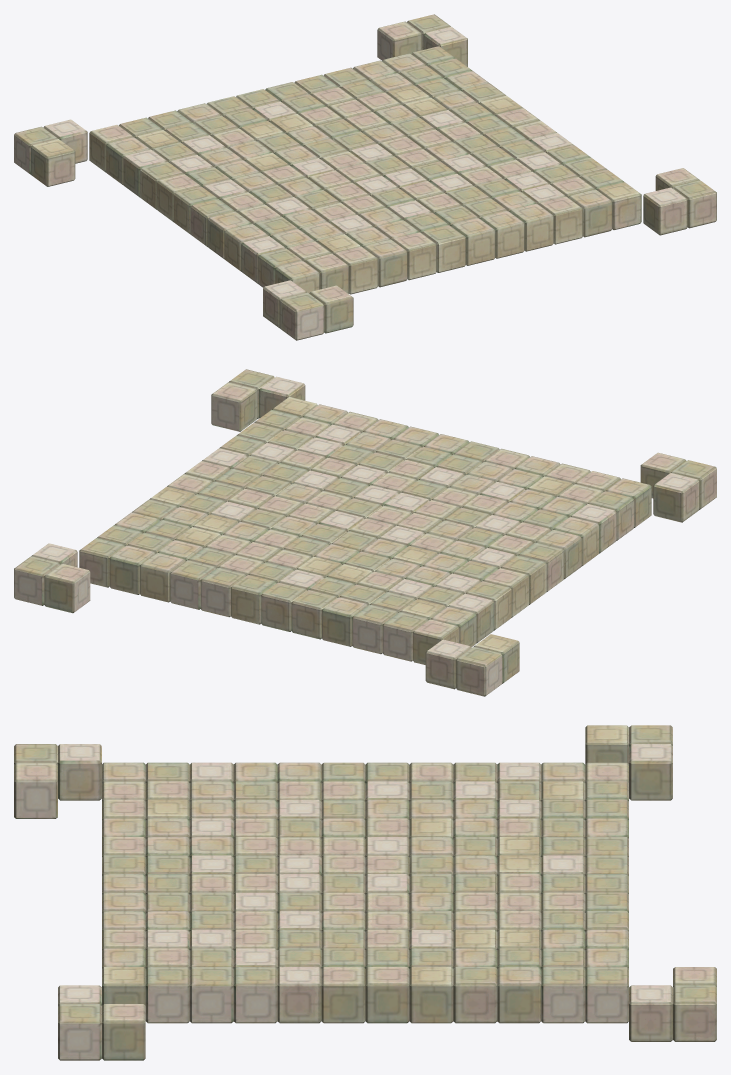
File: Arena.obj
The picture shows the model from 3 angles, top to bottom: view 1: azimuth 30°, elevation 25°; view 2: azimuth 150°, elevation 25°; view 3: azimuth 270°, elevation 25°; orthographic projection. The views are drawn at different scales.
Size of the model in its own units: 320 by 20 by 320.
1 material, 1 textured.
